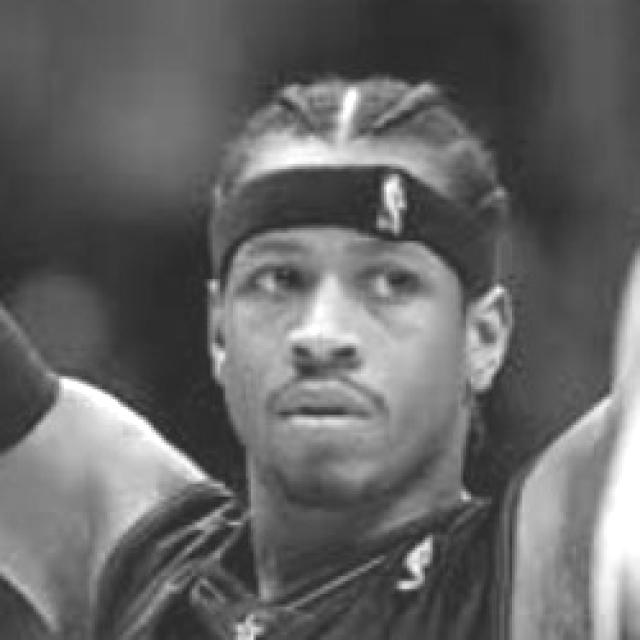real: (215, 78, 483, 520), (230, 226, 419, 319)
